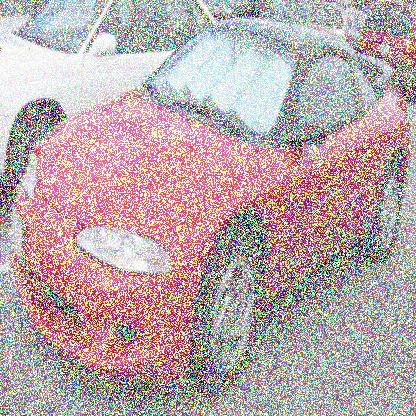Vehicle: (10, 21, 412, 390)
